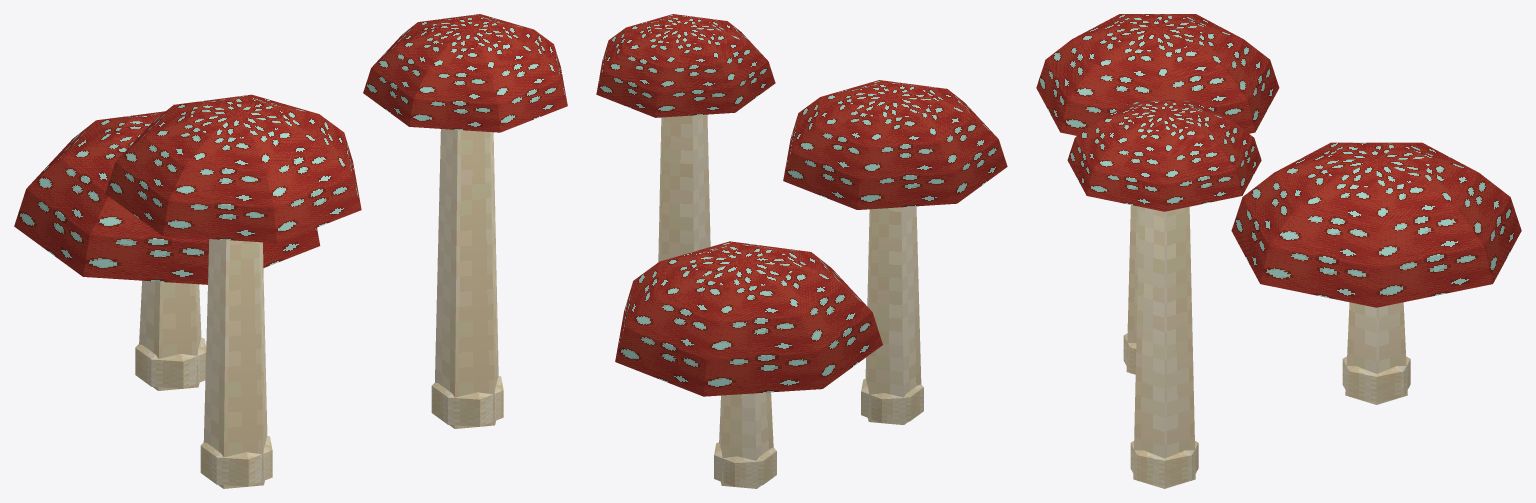
The model's file is glowcap.glb.
3 views of the same model, side by side, from view 1: azimuth 30°, elevation 25°; view 2: azimuth 150°, elevation 25°; view 3: azimuth 270°, elevation 25° (orthographic). The views are drawn at different scales.
Visible parts, largest first — view 1: glowcap; view 2: glowcap; view 3: glowcap.
Part boxes in pixels (bbox=[...]): glowcap: bbox=[14, 14, 567, 488]; glowcap: bbox=[596, 14, 1007, 488]; glowcap: bbox=[1036, 14, 1521, 488].
Size of the model in its own units: 0.9356 by 0.8236 by 0.9745.
Materials: 3 (3 with a texture image).
